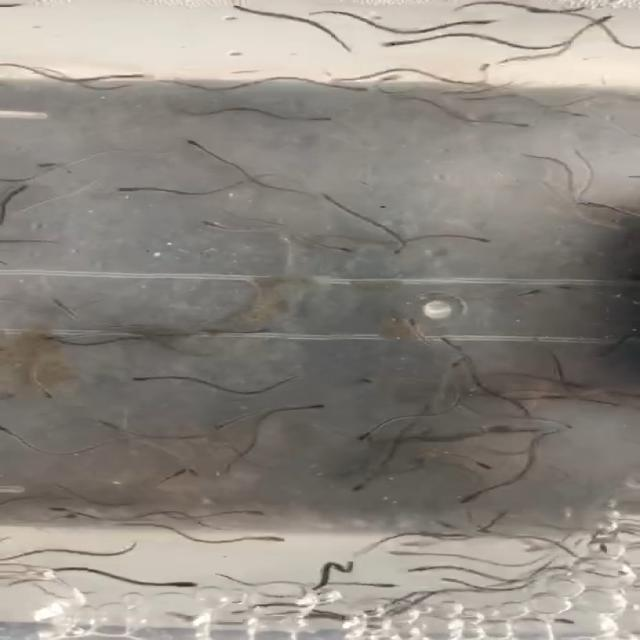active_glass_eel: (510, 4, 578, 20), (510, 612, 566, 631), (575, 13, 630, 31), (329, 77, 382, 94), (331, 430, 377, 449), (32, 378, 64, 403), (304, 110, 346, 129), (112, 65, 161, 81), (338, 474, 376, 494), (345, 367, 378, 390), (371, 71, 425, 85), (378, 33, 432, 47), (466, 15, 515, 30), (34, 324, 67, 346), (157, 578, 208, 592), (112, 79, 154, 95), (460, 454, 496, 472), (234, 506, 274, 522), (552, 106, 587, 124), (150, 473, 183, 492), (575, 198, 614, 214), (24, 158, 60, 175), (448, 490, 478, 510), (296, 396, 329, 414), (407, 327, 446, 342), (474, 62, 503, 82), (43, 514, 84, 528), (32, 338, 73, 352), (194, 213, 227, 230), (464, 520, 503, 534), (94, 416, 133, 430), (165, 457, 199, 473), (375, 547, 415, 560), (125, 373, 164, 386), (221, 2, 263, 14), (49, 502, 85, 516), (260, 533, 296, 547), (370, 578, 406, 592), (199, 417, 236, 430), (550, 416, 574, 436), (447, 526, 477, 542), (116, 182, 150, 196), (462, 233, 496, 247), (336, 242, 362, 259), (520, 151, 554, 164), (407, 560, 438, 574), (387, 244, 415, 259), (177, 136, 210, 148), (0, 76, 35, 87), (511, 285, 543, 297), (514, 120, 537, 136), (438, 573, 467, 584), (0, 420, 15, 434)
